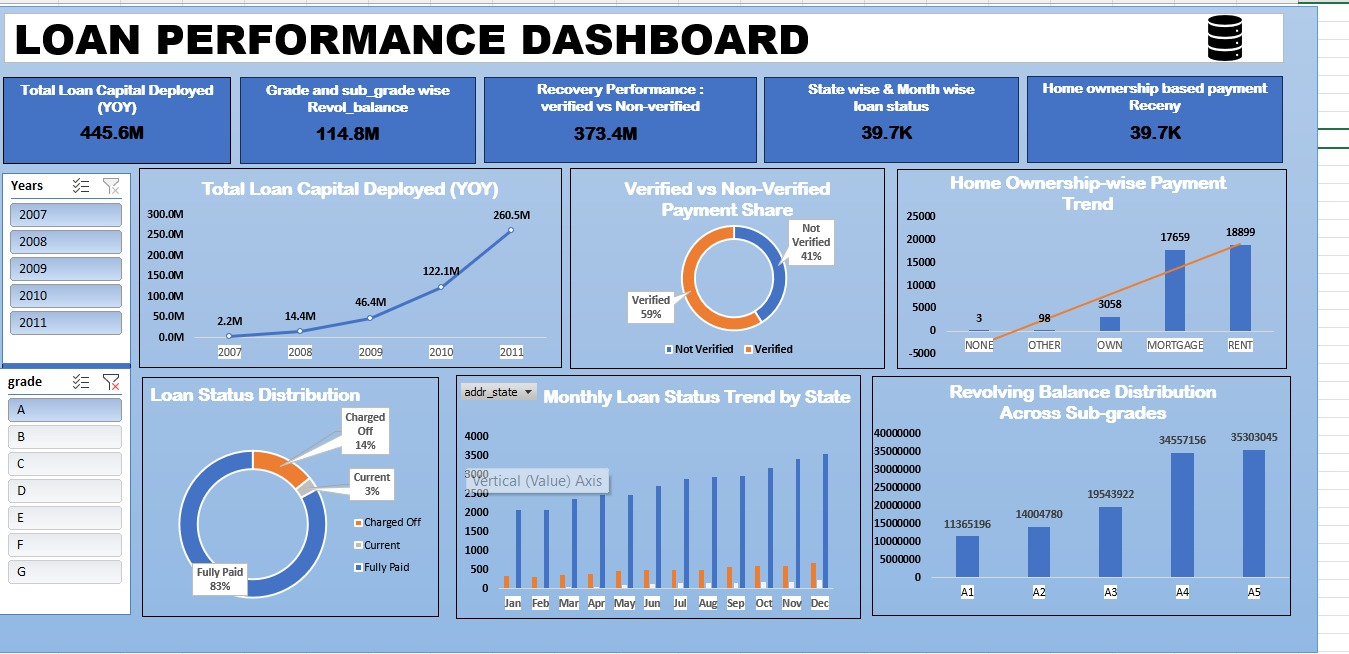

This screenshot's page, from the dashboard's own definition file:
{"tool":"tableau","page":{"name":"Dashboard 1","canvas":[1000,1000],"units":"permille","ordinal":0},"visuals":[{"type":"title","box":[4.8,10,990.3,82.4]},{"type":"worksheet","title":"year wise loan ","mark":"Automatic","box":[4.8,92.4,169.8,160.2]},{"type":"worksheet","title":"revolving_balace","mark":"Automatic","box":[174.6,92.4,193.3,160.2]},{"type":"worksheet","title":"verified vs non-verified","mark":"Automatic","box":[368,92.4,179.8,160.2]},{"type":"worksheet","title":"state & month wise trend","mark":"Automatic","box":[547.8,92.4,183.5,160.2]},{"type":"worksheet","title":"home ownership kpi","mark":"Automatic","box":[731.3,92.4,178.2,160.2]},{"type":"filter","title":"Sheet 7","param":"[federated.1mu3b8m0d0jlrc12s22qq00wwjo0].[none:Year:ok]","box":[909.5,92.4,85.7,219.7]},{"type":"worksheet","title":"Sheet 7","mark":"Line","rows":["loan_amnt"],"cols":["Year"],"box":[4.8,252.5,344.4,368.7]},{"type":"worksheet","title":"Sheet 8 (2)","mark":"Automatic","rows":["Calculation_1187252375818261","Calculation_1187252373209096"],"box":[349.3,252.5,273.9,368.7]},{"type":"worksheet","title":"Sheet 5","mark":"Automatic","rows":["last_pymnt_d"],"cols":["home_ownership"],"box":[623.1,252.5,286.3,368.7]},{"type":"filter","title":"Sheet 10","param":"[federated.1mu3b8m0d0jlrc12s22qq00wwjo0].[none:grade:nk]","box":[909.5,312.1,85.7,228.5]},{"type":"filter","title":"Sheet 9","param":"[federated.1mu3b8m0d0jlrc12s22qq00wwjo0].[none:loan_status:nk]","box":[909.5,540.6,85.7,183.5]},{"type":"worksheet","title":"Sheet 9","mark":"Automatic","rows":["Calculation_1187252359692294"],"cols":["Month","loan_status"],"box":[4.8,621.2,344.4,368.8]},{"type":"worksheet","title":"Sheet 12","mark":"Automatic","rows":["Calculation_1187252373209096","Calculation_1187252373209096"],"box":[349.3,621.2,225.8,368.8]},{"type":"worksheet","title":"Sheet 10","mark":"Automatic","rows":["revol_bal"],"cols":["grade","sub_grade"],"box":[575,621.2,334.5,368.8]},{"type":"filter","title":"Sheet 9","param":"[federated.1mu3b8m0d0jlrc12s22qq00wwjo0].[none:addr_state:nk]","box":[909.5,724.1,85.7,265.9]}]}

Visuals, with their boxes on the dashboard's canvas, which has no fixed pixel size, in thousandths of its width and height (x1, y1, x2, y2). These are canvas units, not pixel positions in the 1349x654 screenshot, which may show the page scaled, cropped or inside an application window:
title: 5/10/995/92
"year wise loan " worksheet: 5/92/175/253
"revolving_balace" worksheet: 175/92/368/253
"verified vs non-verified" worksheet: 368/92/548/253
"state & month wise trend" worksheet: 548/92/731/253
"home ownership kpi" worksheet: 731/92/910/253
"Sheet 7" filter: 910/92/995/312
"Sheet 7" worksheet (Line marks): 5/252/349/621
"Sheet 8 (2)" worksheet: 349/252/623/621
"Sheet 5" worksheet: 623/252/909/621
"Sheet 10" filter: 910/312/995/541
"Sheet 9" filter: 910/541/995/724
"Sheet 9" worksheet: 5/621/349/990
"Sheet 12" worksheet: 349/621/575/990
"Sheet 10" worksheet: 575/621/910/990
"Sheet 9" filter: 910/724/995/990
